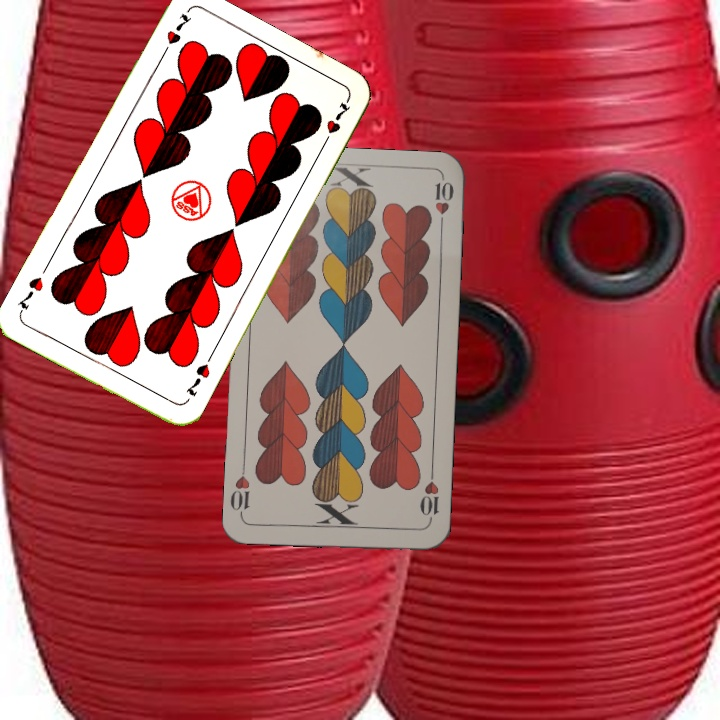H10: (416, 466, 442, 525)
H7: (156, 9, 195, 62), (181, 359, 213, 399)
